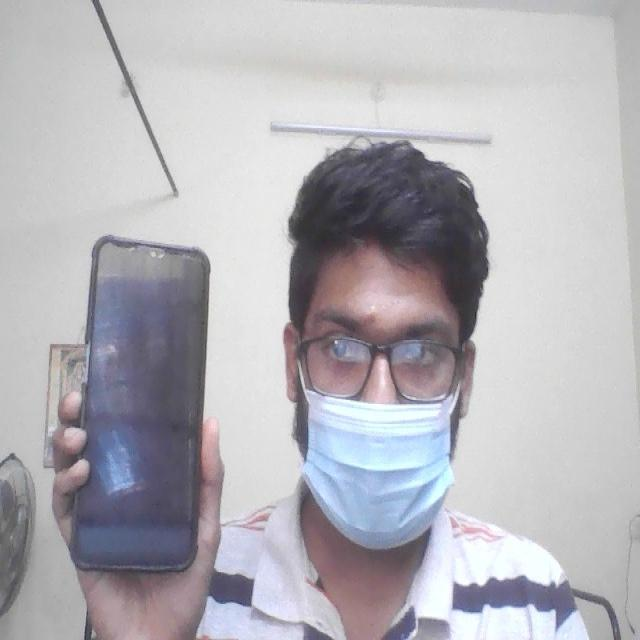Mobile: (59, 225, 218, 584)
